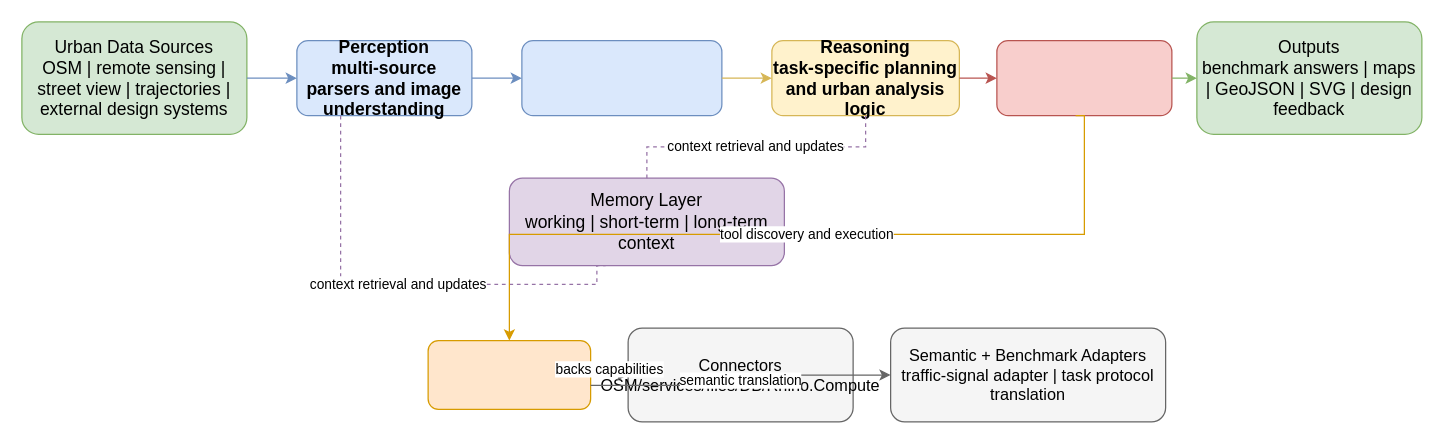
Some shapes in this 1444 by 444 pixel diagram are drawn without their labels. Each missing label, with the box of its shape:
Action MCP tool calls, outputs, reports: (996, 39, 1172, 116)
Cognition dual-space graphs and vector geometry alignment: (521, 39, 722, 116)
MCP Interface: (427, 339, 591, 409)
